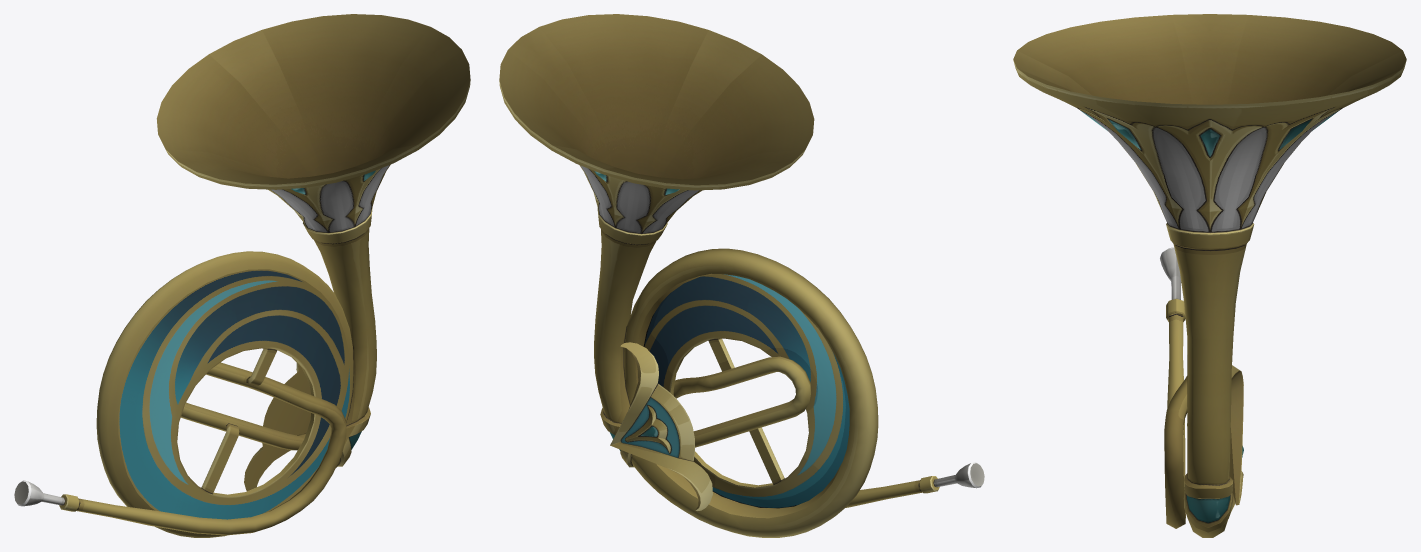
The model's file is Nightwind Horn.glb.
3 renders of one model, left to right at view 1: azimuth 30°, elevation 25°; view 2: azimuth 150°, elevation 25°; view 3: azimuth 270°, elevation 25°, orthographic. The views are drawn at different scales.
Parts seen in each view (by area): view 1: AvatarObj_Widget_Frenchhorn_01_Model; view 2: AvatarObj_Widget_Frenchhorn_01_Model; view 3: AvatarObj_Widget_Frenchhorn_01_Model.
Boxes of the visible parts, box(x1,y1,x2,y2) form: AvatarObj_Widget_Frenchhorn_01_Model: box(14, 14, 470, 537); AvatarObj_Widget_Frenchhorn_01_Model: box(499, 14, 984, 537); AvatarObj_Widget_Frenchhorn_01_Model: box(1013, 14, 1406, 537).
Bounding box in the file's own units: 0.397 × 0.3759 × 0.2466.
1 material, 1 textured.
